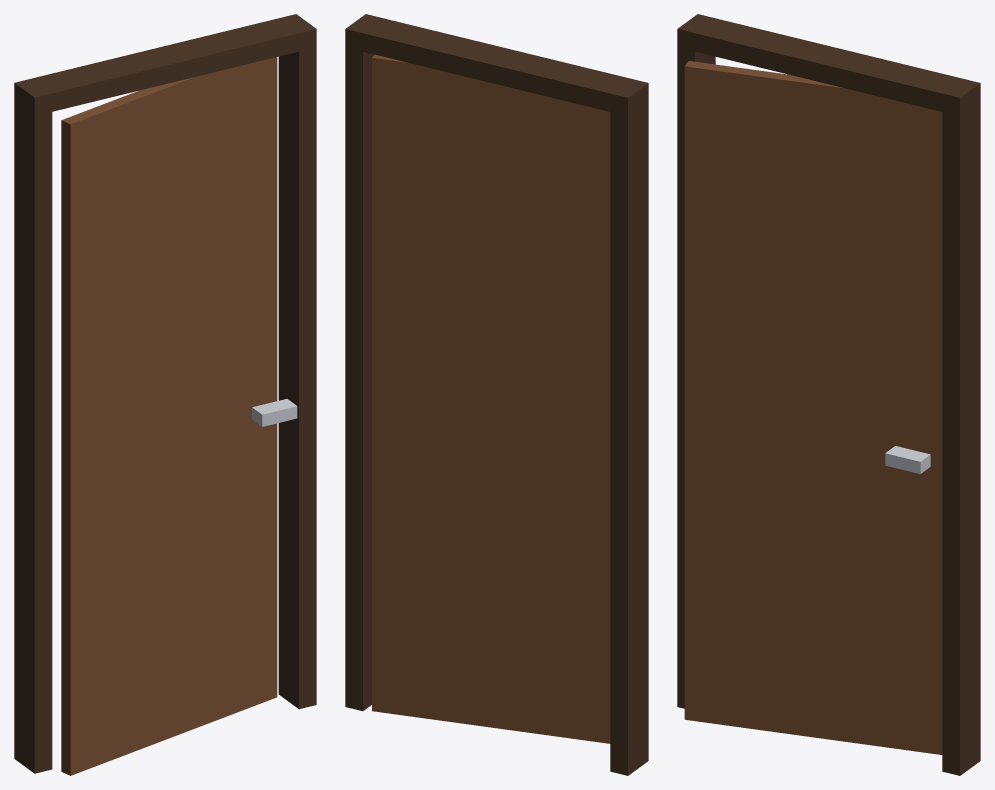
Rendered from door_single_wood.glb.
The picture shows the model from 3 angles, left to right: view 1: azimuth 30°, elevation 25°; view 2: azimuth 150°, elevation 25°; view 3: azimuth 330°, elevation 25°; orthographic projection.
Parts seen in each view (by area): view 1: door_single_wood; view 2: door_single_wood; view 3: door_single_wood.
Part boxes in pixels (x1=…): door_single_wood: x1=14, y1=14, x2=316, y2=775; door_single_wood: x1=345, y1=14, x2=648, y2=775; door_single_wood: x1=677, y1=14, x2=980, y2=775.
Bounding box in the file's own units: 0.96 × 2.2 × 0.2096.
